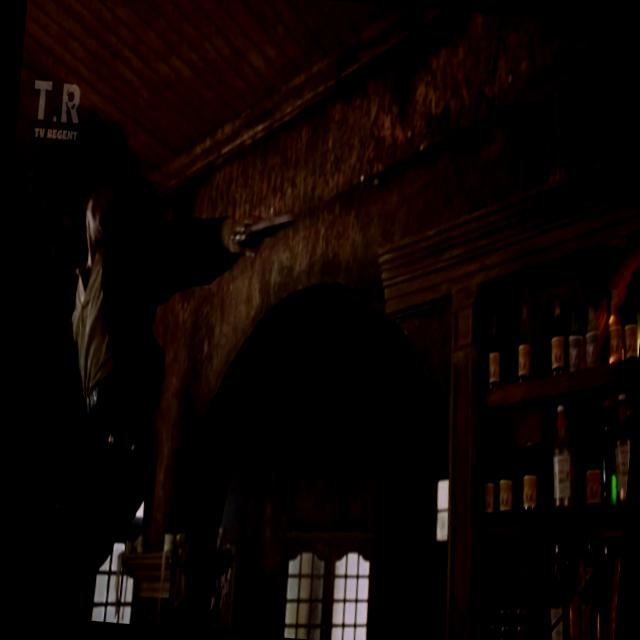handgun: (212, 187, 308, 297)
